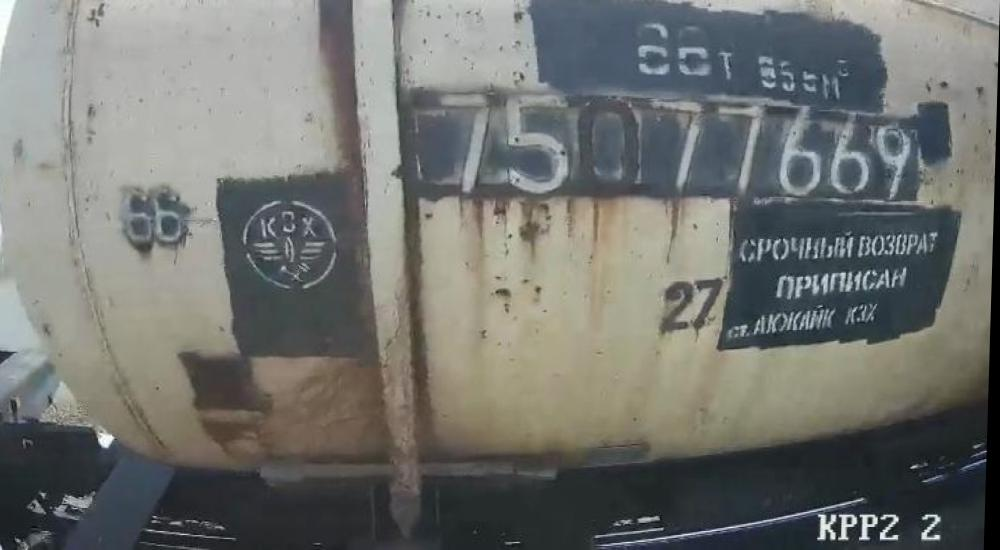Wagon-number: (432, 88, 920, 203)
